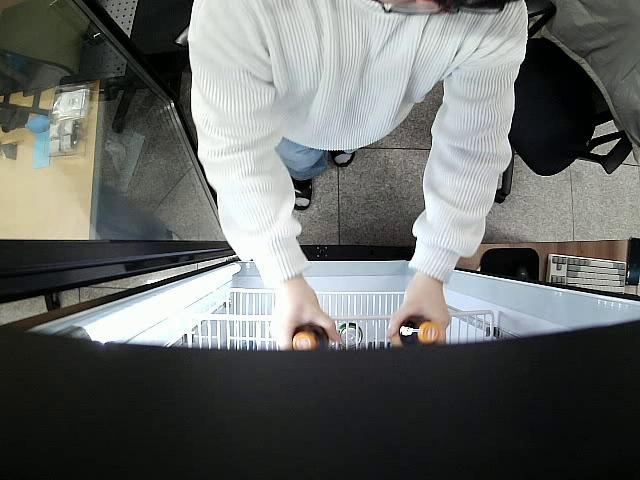17_vita500: (392, 314, 440, 346), (292, 323, 330, 352)
